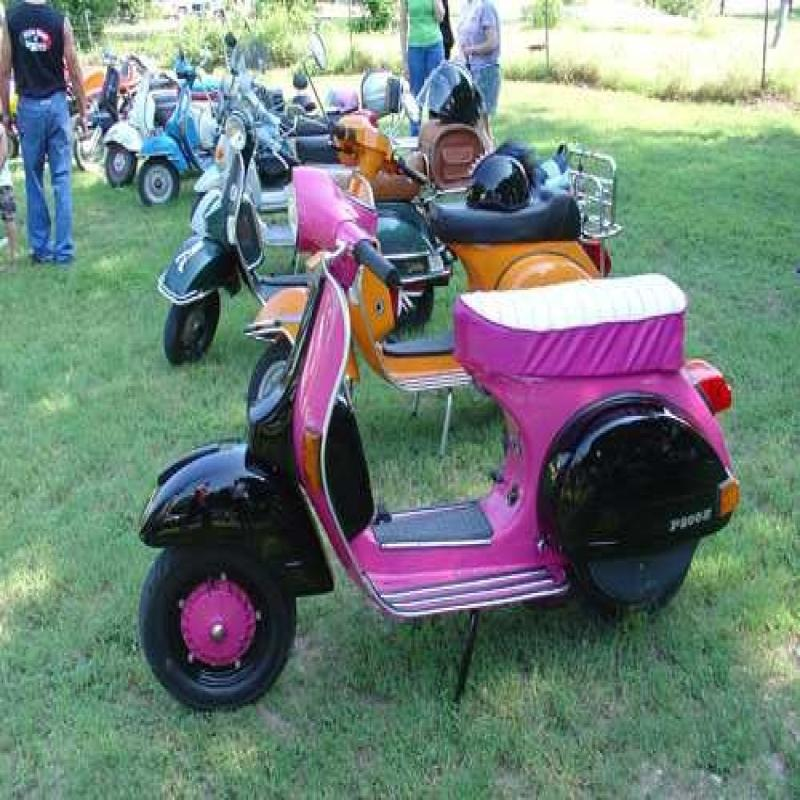bike: (148, 193, 710, 664), (190, 107, 447, 352), (152, 48, 211, 202)
